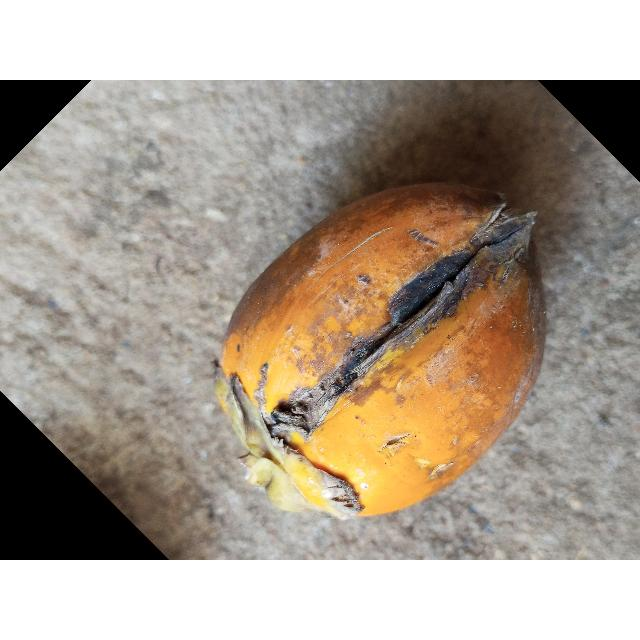damaged: (216, 183, 545, 518)
